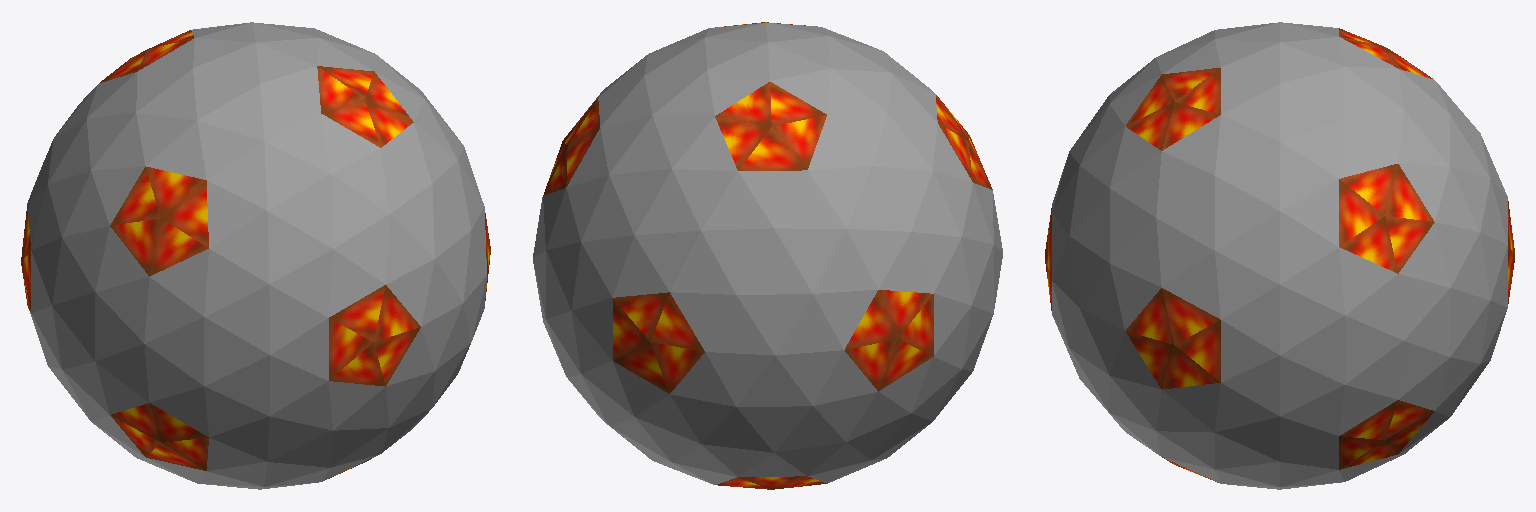
3 renders of one model, left to right at view 1: azimuth 30°, elevation 25°; view 2: azimuth 150°, elevation 25°; view 3: azimuth 270°, elevation 25°, orthographic.
Visible parts, largest first — view 1: Sphere; view 2: Sphere; view 3: Sphere.
Part boxes in pixels (x1,y1,x2,y2): Sphere: (21, 22, 490, 489); Sphere: (533, 22, 1002, 489); Sphere: (1045, 22, 1514, 489).
Bounding box in the file's own units: 20 × 20 × 20.
Materials: 2 (1 with a texture image).